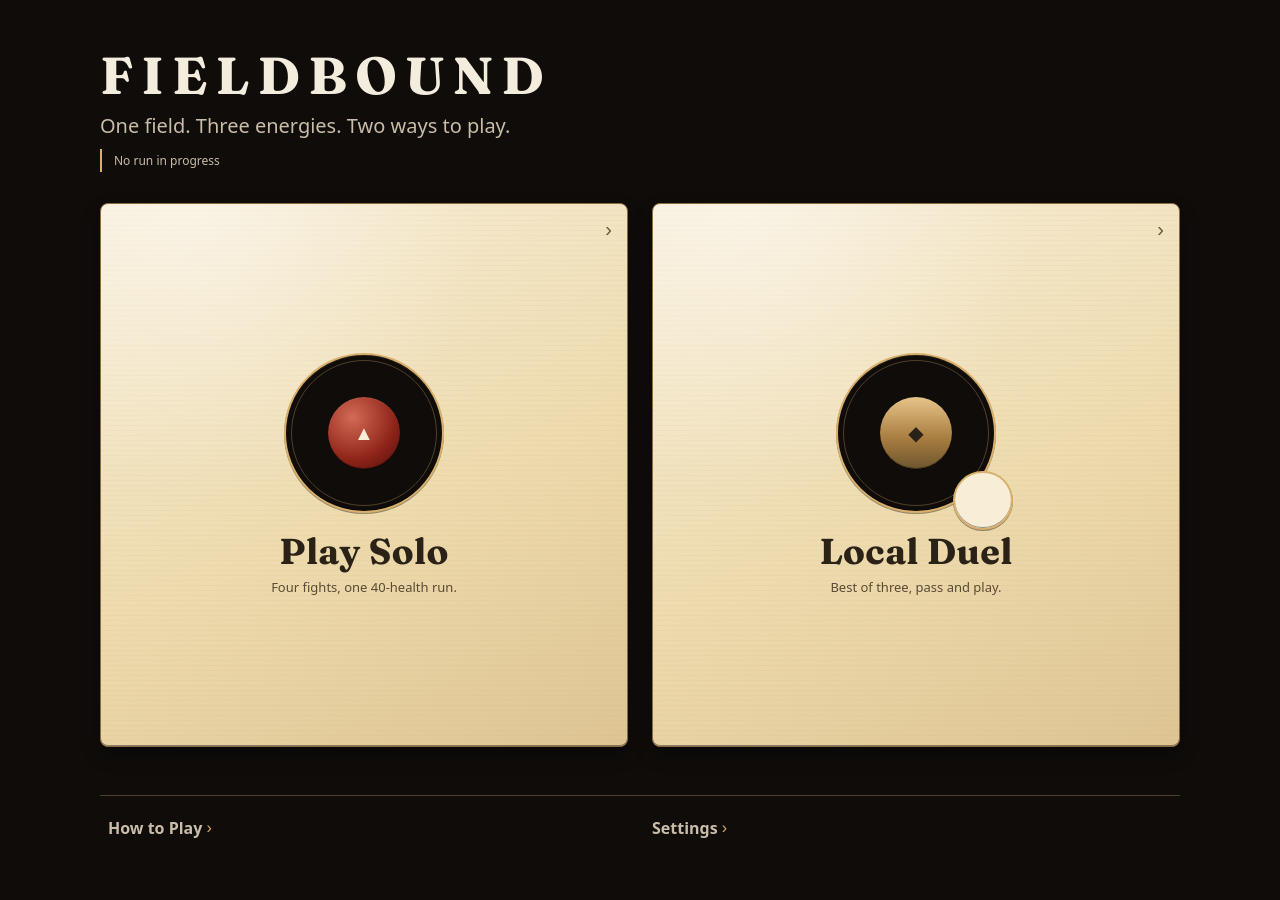
Test: App local duel setup › discards a partial choice when Back returns to the menu
Click the button named "Local Duel" next to "Local Duel": click(916, 475) [652,203,1180,747]
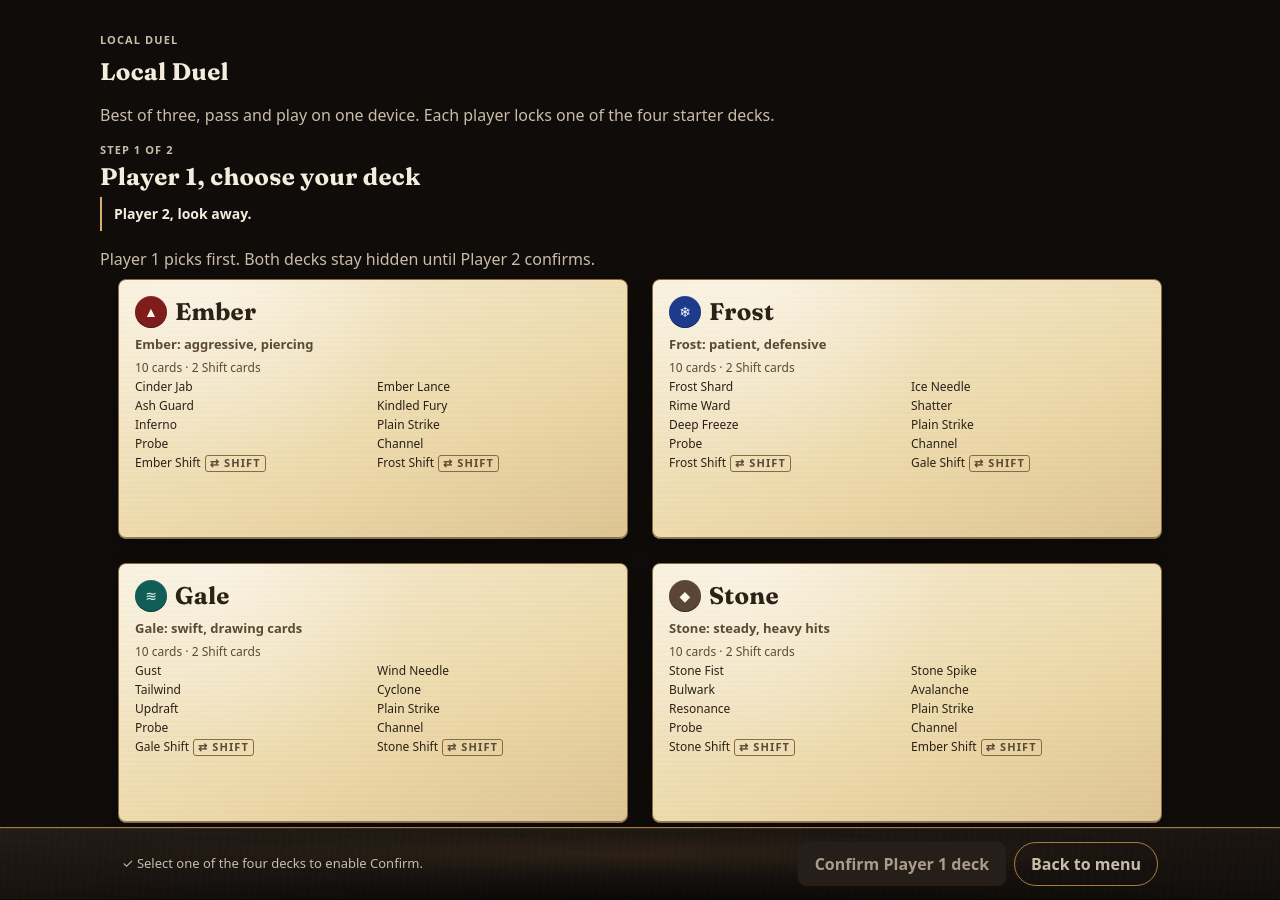
Click the button with aria-label "Choose the Stone deck": click(685, 596) [652,563,1162,823]
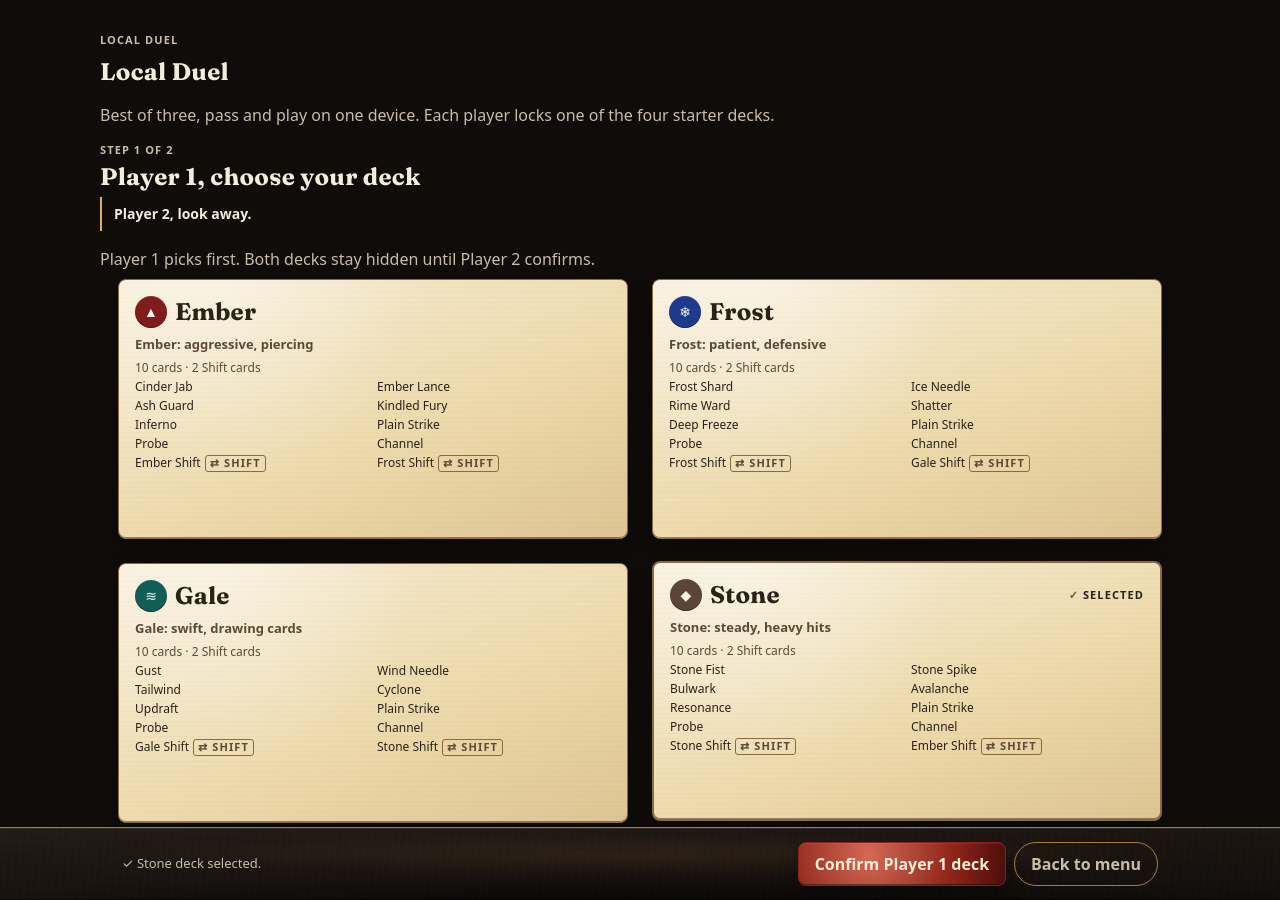
Click the button "Back to menu": click(1086, 864) [1014,842,1158,886]
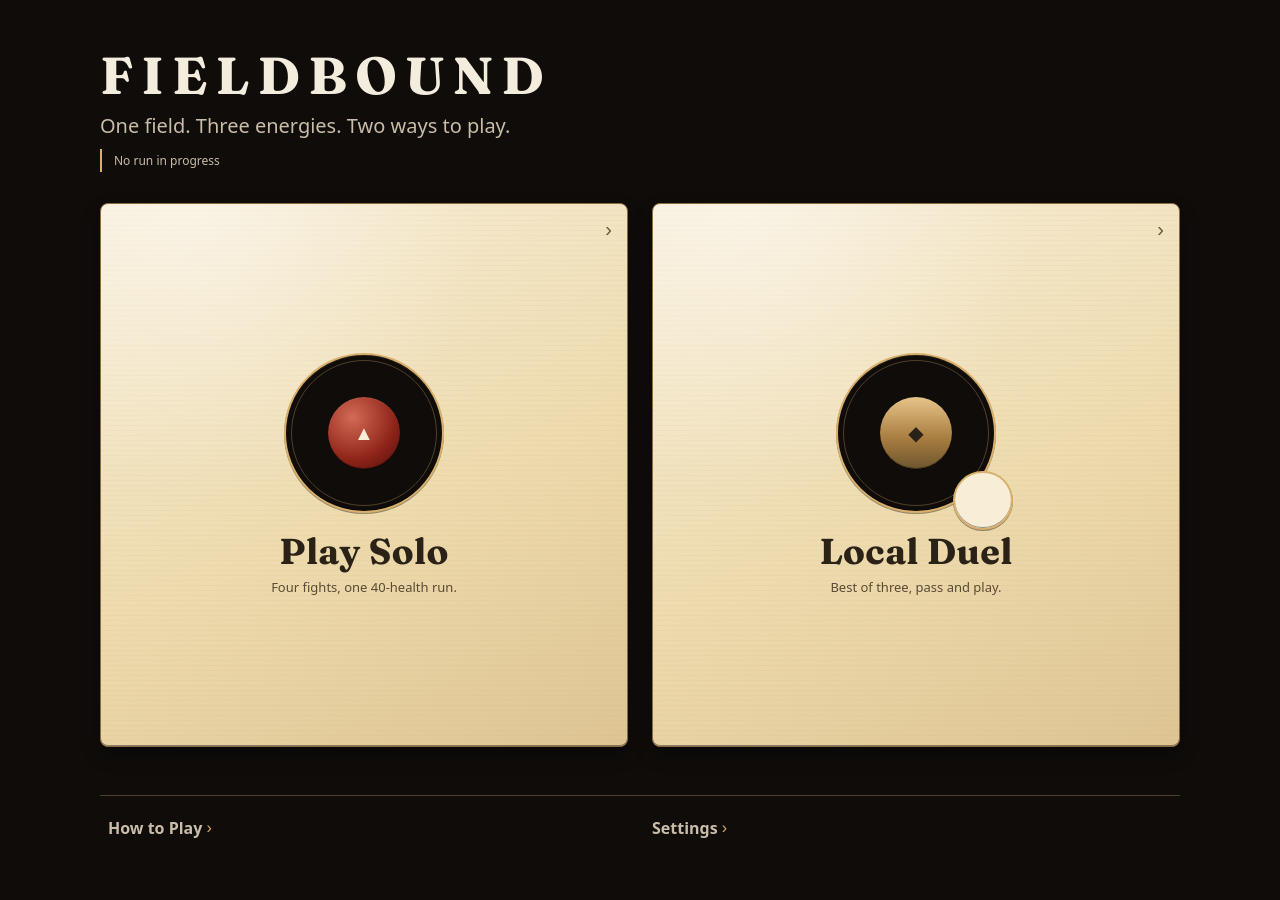
Click the button named "Local Duel" next to "Local Duel": click(916, 475) [652,203,1180,747]
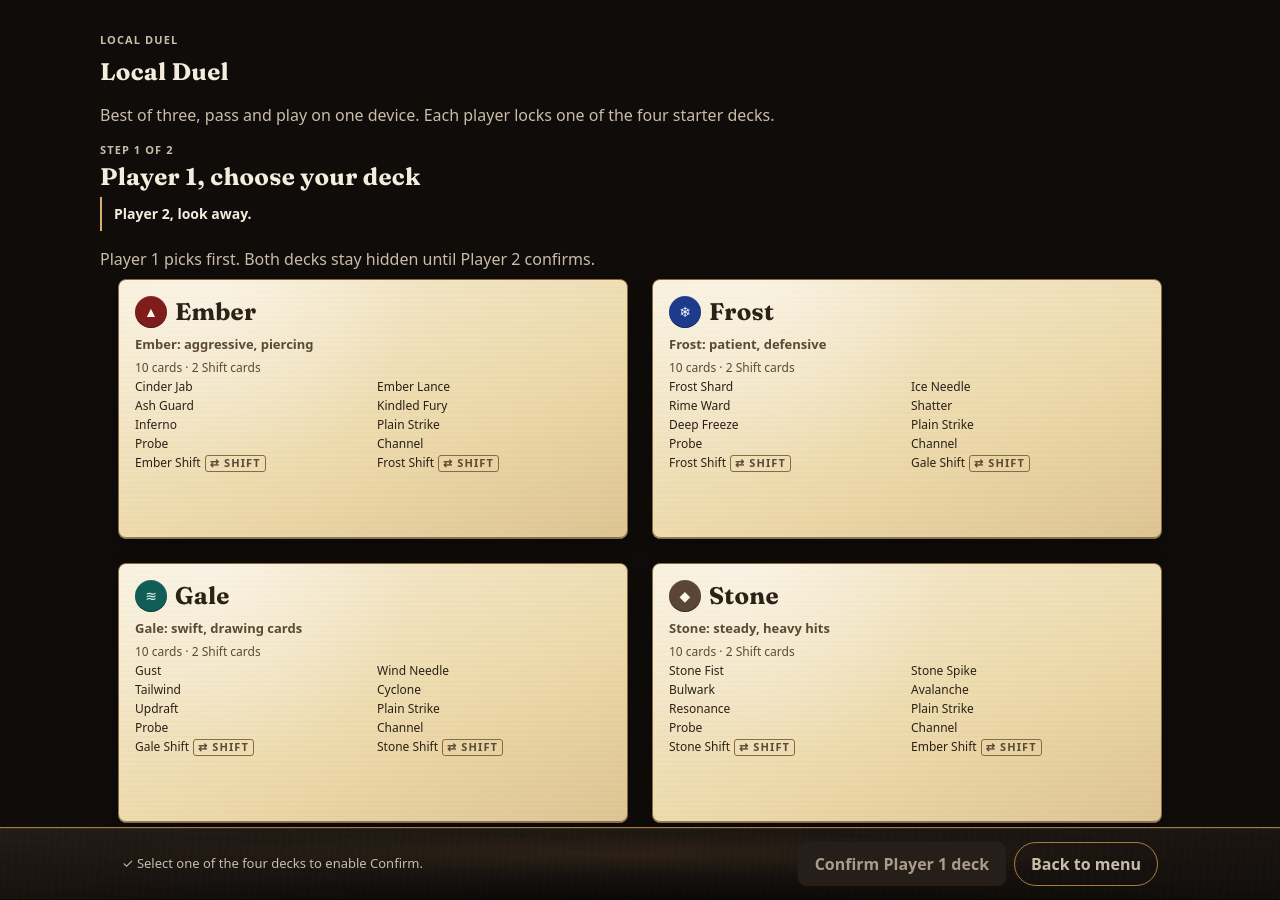
Now the heading "Player 1, choose your deck" is shown, box [100,164,420,190]
